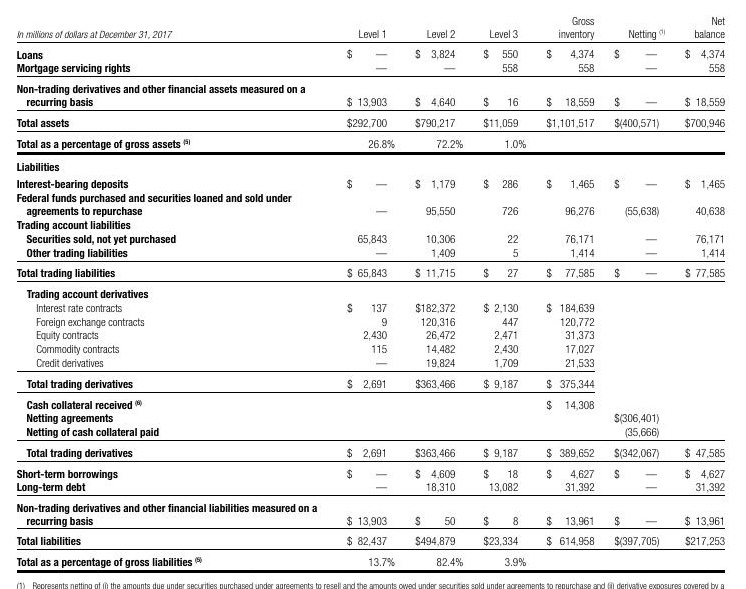table: (0, 0, 746, 589)
